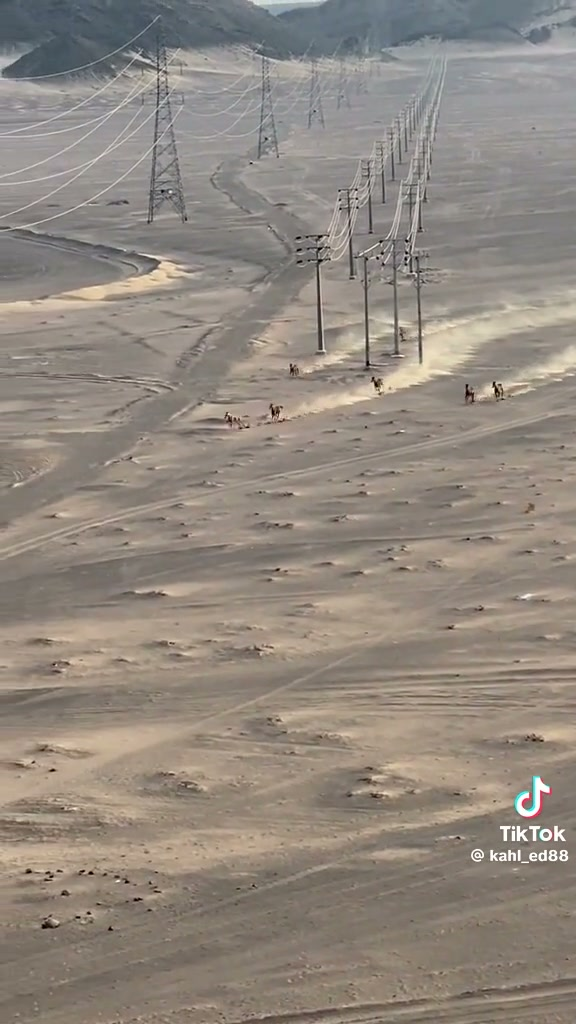animal: (224, 412, 247, 428), (269, 403, 282, 421), (371, 376, 383, 394), (492, 381, 503, 399), (465, 384, 474, 403), (289, 364, 299, 376)
vehicle_track: (218, 412, 556, 495), (236, 978, 575, 1023), (0, 370, 174, 392)
